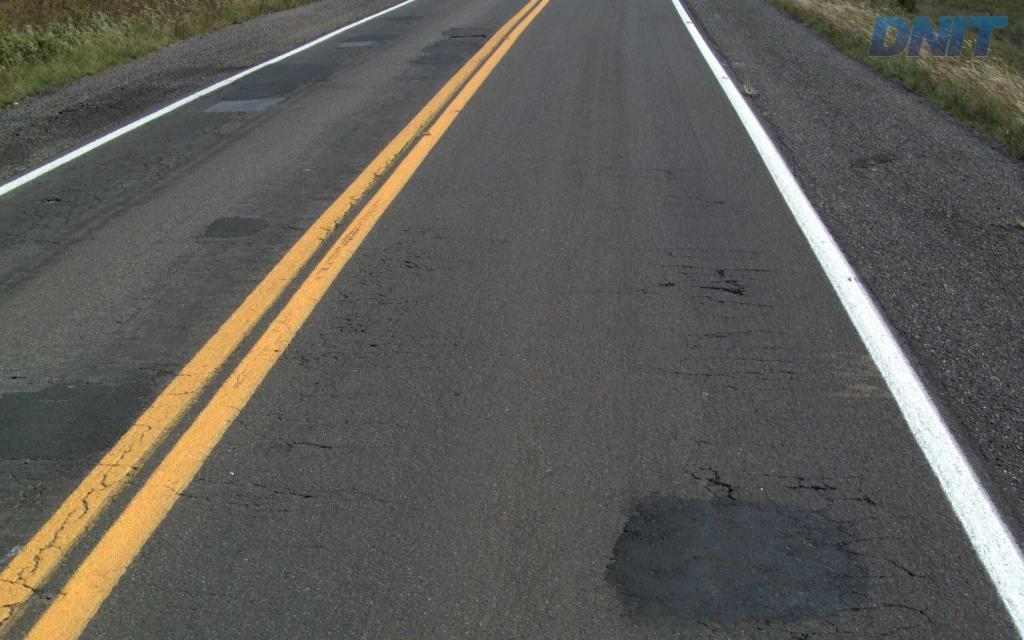crack: (689, 267, 753, 297), (835, 519, 872, 560), (704, 466, 740, 499)
